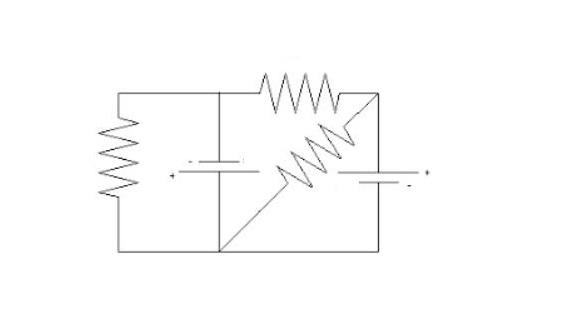resistor: (266, 109, 355, 190), (87, 94, 145, 217), (246, 61, 342, 119)
